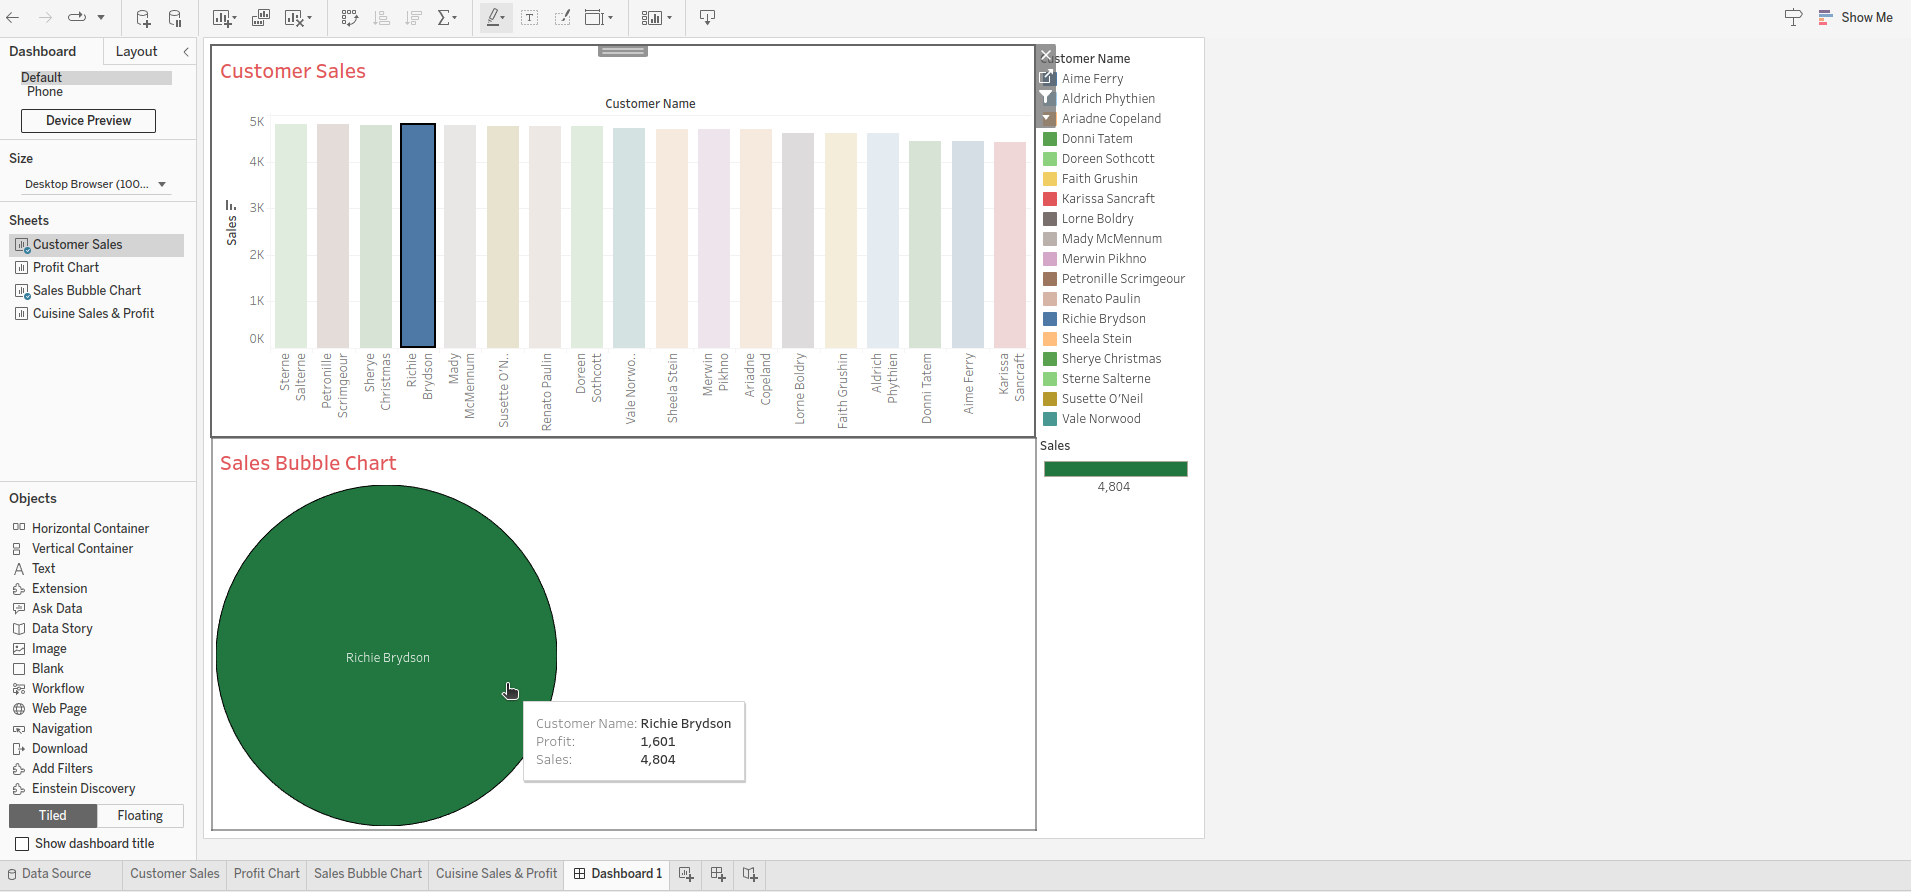

What the dashboard file says about the page in this screenshot:
{"tool":"tableau","page":{"name":"Dashboard 1","canvas":[1000,800],"ordinal":0},"visuals":[{"type":"worksheet","title":"Customer Sales","mark":"Automatic","rows":["Sales"],"cols":["Customer Name"],"box":[8,8,824,392]},{"type":"legend","title":"Sales Bubble Chart","param":"[federated.1ej320s199xeg113j12a00c859by].[sum:Calculation_14988566058729514:qk]","box":[832,8,160,22]},{"type":"worksheet","title":"Sales Bubble Chart","mark":"Circle","box":[8,400,824,392]}]}

Visuals, with their boxes on the page's 1000x800 design canvas (x1, y1, x2, y2). These are canvas units, not pixel positions in the 1911x892 screenshot, which may show the page scaled, cropped or inside an application window:
"Customer Sales" worksheet: 8:8:832:400
"Sales Bubble Chart" legend: 832:8:992:30
"Sales Bubble Chart" worksheet (Circle marks): 8:400:832:792
